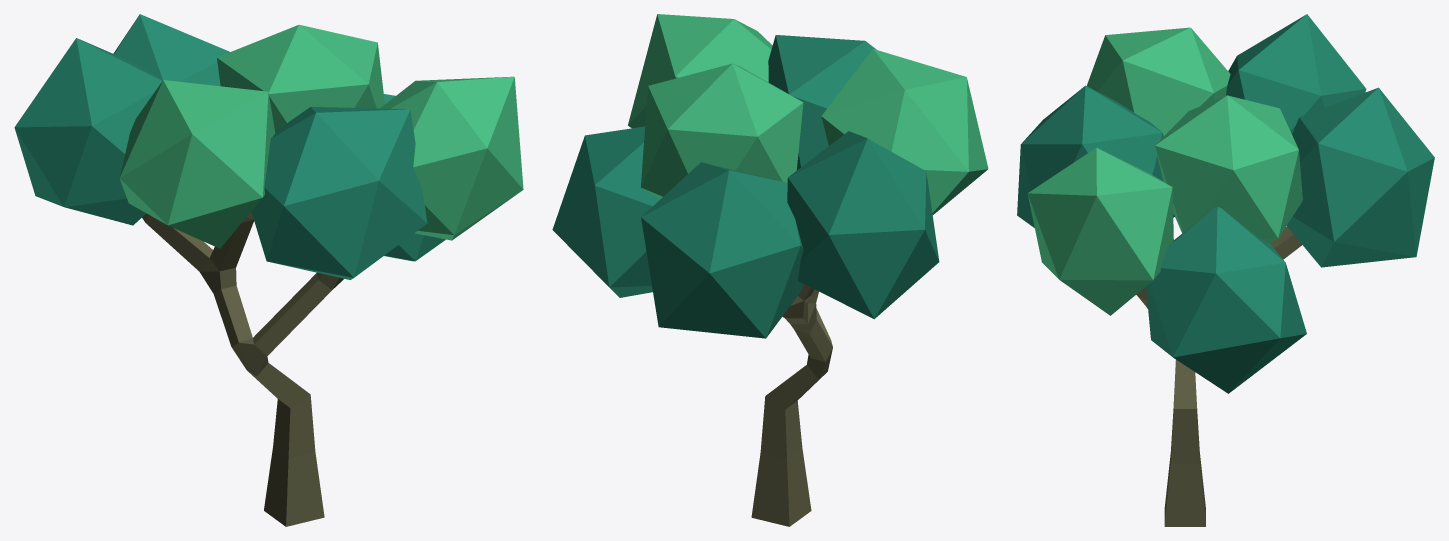
File: tree2.fbx
3 renders of one model, left to right at view 1: azimuth 30°, elevation 25°; view 2: azimuth 150°, elevation 25°; view 3: azimuth 270°, elevation 25°, orthographic. The views are drawn at different scales.
Visible parts, largest first — view 1: Icosphere, Cube; view 2: Icosphere, Cube; view 3: Icosphere, Cube.
Boxes of the visible parts, bbox=[...] form: Icosphere: bbox=[14, 14, 523, 279]; Cube: bbox=[142, 212, 343, 526]; Icosphere: bbox=[552, 14, 988, 338]; Cube: bbox=[751, 284, 832, 526]; Icosphere: bbox=[1017, 14, 1434, 393]; Cube: bbox=[1136, 226, 1301, 526].
Bounding box in the file's own units: 10.99 × 12.2 × 10.61.
